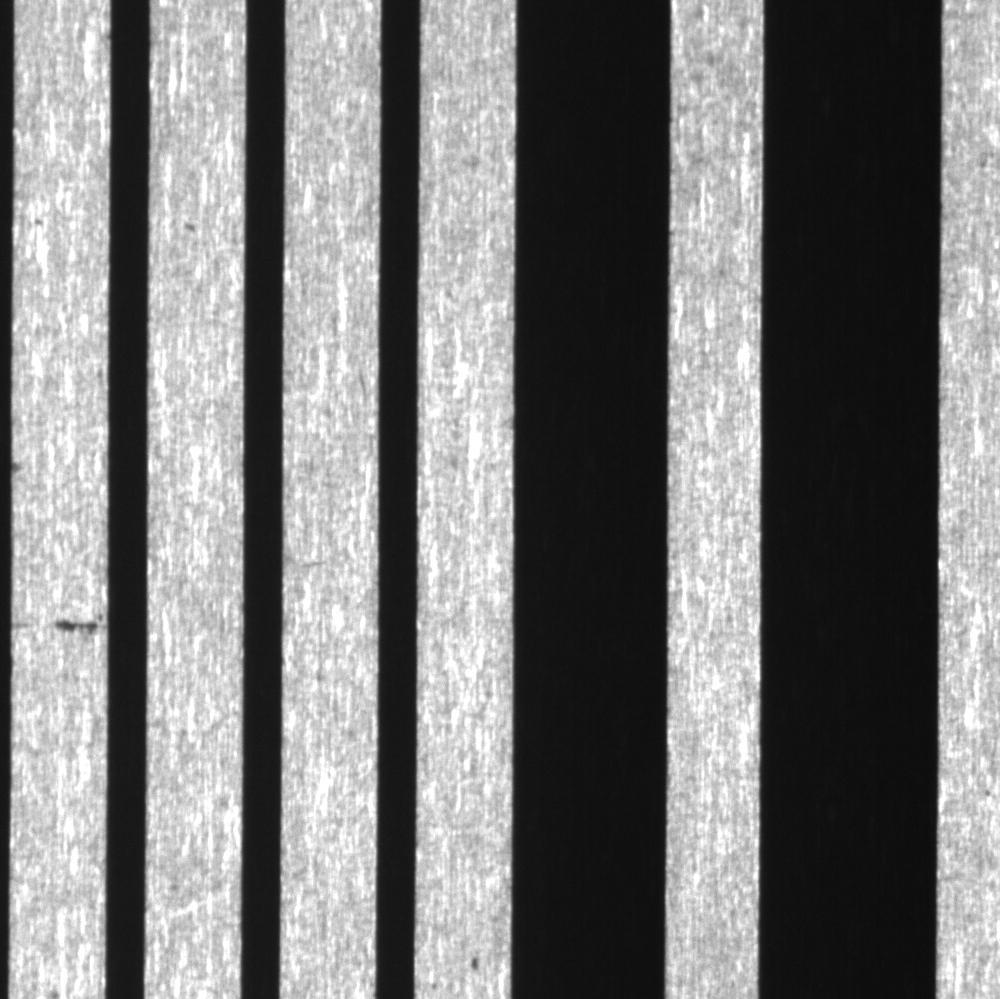Etching: (43, 602, 106, 652), (4, 438, 39, 509), (174, 207, 207, 247), (25, 201, 56, 236)
Pinhole: (460, 938, 493, 980)
Scar: (350, 350, 378, 433)
